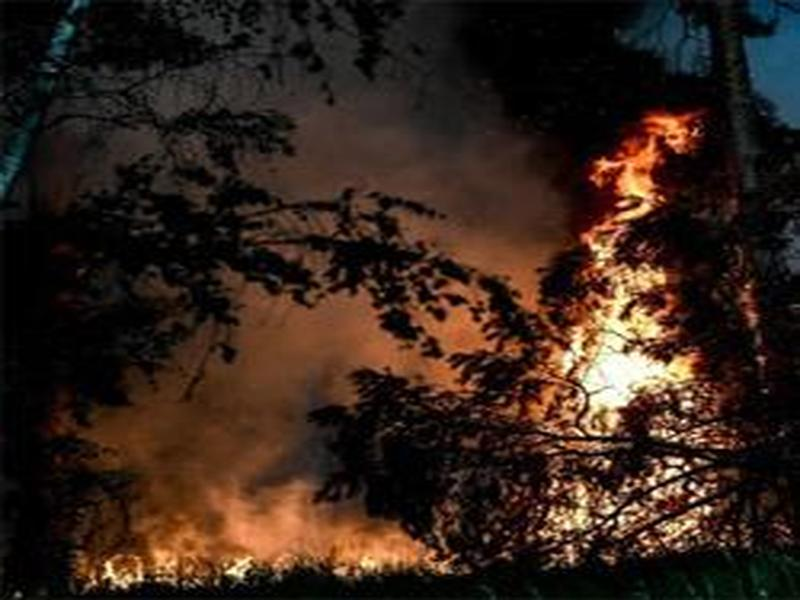FIRE: (33, 114, 773, 600)
